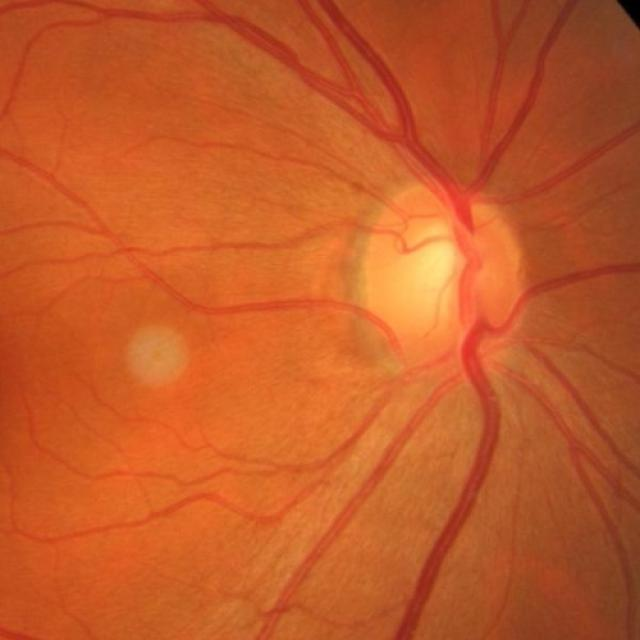OC: (408, 222, 472, 283)
OD: (363, 189, 524, 370)
